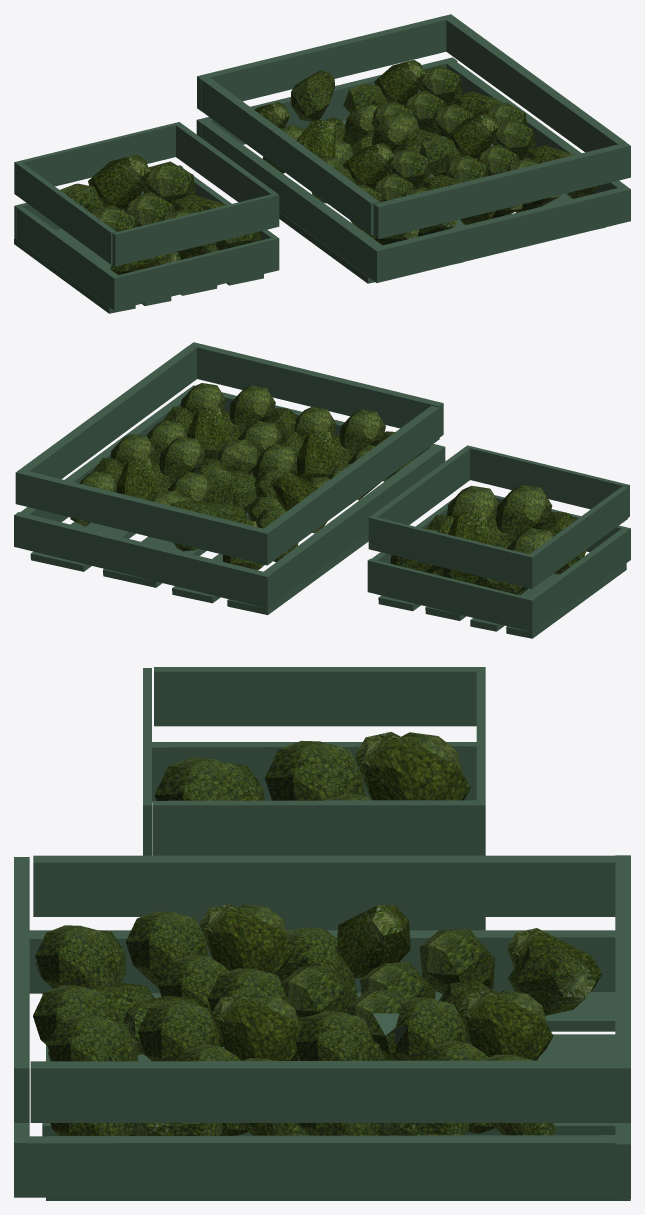
File: avacado.fbx
3 renders of one model, top to bottom at view 1: azimuth 30°, elevation 25°; view 2: azimuth 150°, elevation 25°; view 3: azimuth 270°, elevation 25°, orthographic. The views are drawn at different scales.
Parts seen in each view (by area): view 1: Group2, Group1; view 2: Group2, Group1; view 3: Group2, Group1.
Part boxes in pixels (bbox=[...]): Group2: bbox=[196, 14, 630, 283]; Group1: bbox=[14, 122, 279, 313]; Group2: bbox=[14, 342, 445, 614]; Group1: bbox=[367, 445, 630, 638]; Group2: bbox=[14, 855, 630, 1200]; Group1: bbox=[143, 667, 485, 930].
Bounding box in the file's own units: 45.8 × 8.66 × 29.65.
